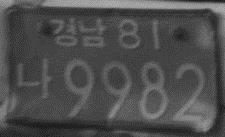1: (148, 18, 165, 50)
2: (171, 61, 207, 125)
8: (138, 60, 169, 121), (117, 17, 141, 50)
9: (61, 56, 96, 119), (98, 60, 132, 121)
경남_O: (48, 16, 108, 48)
나: (15, 54, 53, 102)
